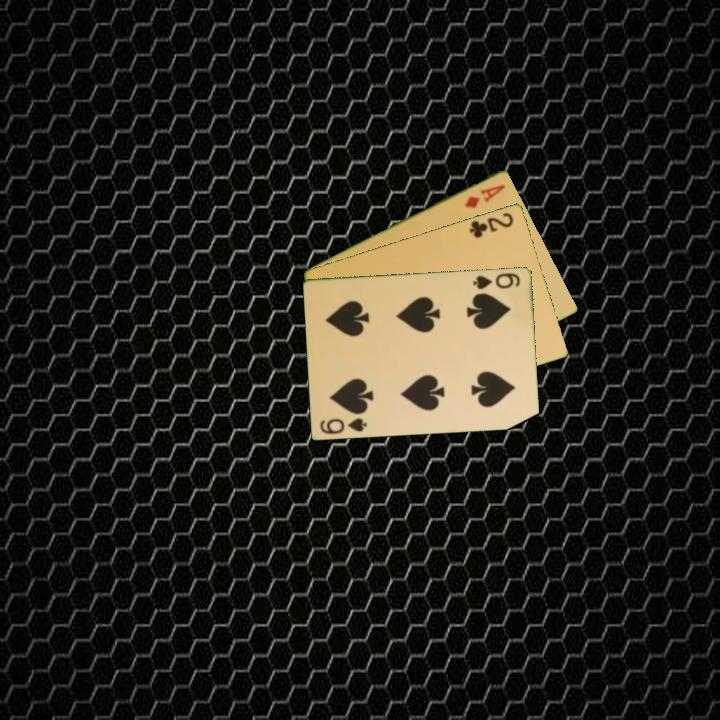2c: (466, 208, 517, 241)
6s: (316, 414, 370, 437), (470, 269, 523, 292)
Ad: (460, 180, 508, 211)
